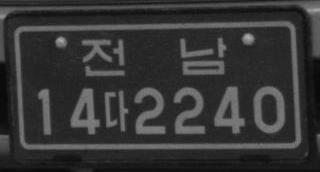0: (252, 84, 286, 134)
1: (32, 86, 59, 137)
2: (132, 85, 167, 136), (173, 85, 206, 136)
4: (212, 84, 246, 135), (69, 86, 101, 135)
다: (103, 89, 129, 132)
전남_D: (80, 35, 227, 78)
